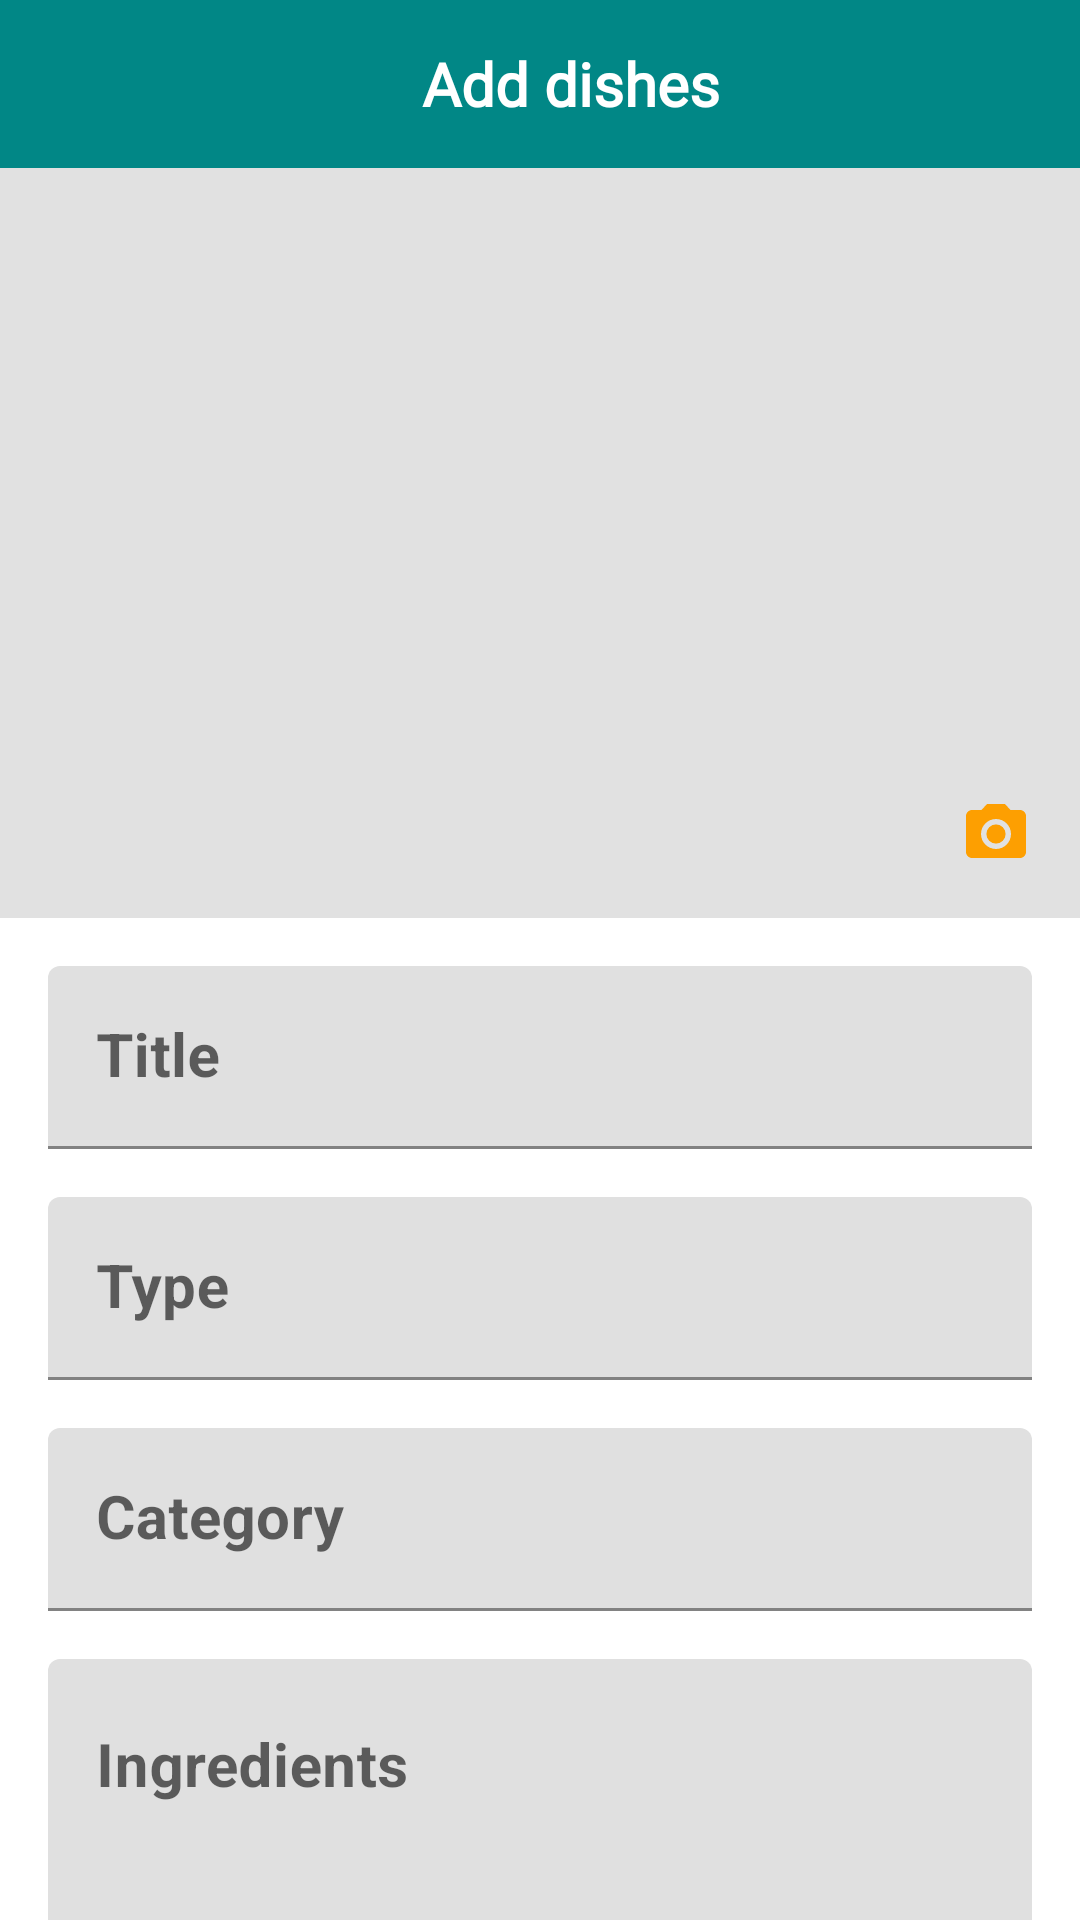

Icon bounding boxes for this 1080*1920 phone screenshot, format (x1, y1, x2, y2):
camera: (966, 804, 1026, 858)
